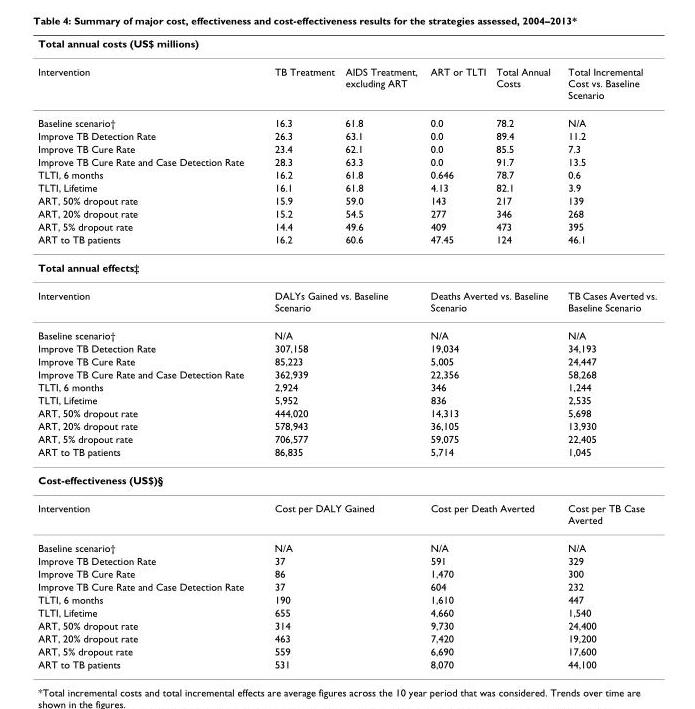table: (37, 36, 656, 669)
table column: (37, 36, 258, 669), (558, 36, 656, 669), (339, 36, 423, 669), (258, 36, 339, 669), (490, 36, 558, 669), (423, 36, 490, 669)
table column header: (37, 36, 656, 108)
table projected row header: (37, 252, 656, 281), (37, 465, 656, 493)
table row: (37, 57, 656, 108), (37, 493, 656, 533), (37, 281, 656, 320), (37, 252, 656, 281), (37, 465, 656, 493), (37, 36, 656, 57), (37, 108, 656, 129), (37, 320, 656, 341), (37, 232, 656, 252), (37, 445, 656, 465), (37, 533, 656, 553), (37, 141, 656, 154), (37, 154, 656, 167), (37, 167, 656, 180), (37, 180, 656, 193), (37, 193, 656, 206), (37, 206, 656, 219), (37, 219, 656, 232), (37, 341, 656, 354), (37, 354, 656, 367), (37, 367, 656, 380), (37, 380, 656, 393), (37, 393, 656, 406), (37, 406, 656, 419), (37, 419, 656, 432), (37, 432, 656, 445), (37, 553, 656, 566), (37, 566, 656, 579), (37, 579, 656, 592), (37, 592, 656, 605), (37, 605, 656, 618), (37, 618, 656, 631), (37, 631, 656, 644), (37, 644, 656, 657), (37, 129, 656, 141), (37, 657, 656, 669)
table spanning cell: (37, 36, 656, 57), (258, 493, 423, 533), (258, 281, 423, 320), (423, 493, 558, 533), (423, 281, 558, 320), (258, 320, 423, 341), (258, 445, 423, 465), (258, 533, 423, 553), (423, 320, 558, 341), (423, 445, 558, 465), (423, 533, 558, 553), (258, 341, 423, 354), (258, 354, 423, 367), (258, 367, 423, 380), (258, 380, 423, 393), (258, 393, 423, 406), (258, 406, 423, 419), (258, 419, 423, 432), (258, 432, 423, 445), (258, 553, 423, 566), (258, 566, 423, 579), (258, 579, 423, 592), (258, 592, 423, 605), (258, 605, 423, 618), (258, 618, 423, 631), (258, 631, 423, 644), (258, 644, 423, 657), (258, 657, 423, 669), (423, 341, 558, 354), (423, 354, 558, 367), (423, 367, 558, 380), (423, 380, 558, 393), (423, 393, 558, 406), (423, 406, 558, 419), (423, 419, 558, 432), (423, 432, 558, 445), (423, 553, 558, 566), (423, 566, 558, 579), (423, 579, 558, 592), (423, 592, 558, 605), (423, 605, 558, 618), (423, 618, 558, 631), (423, 631, 558, 644), (423, 644, 558, 657), (423, 657, 558, 669)
